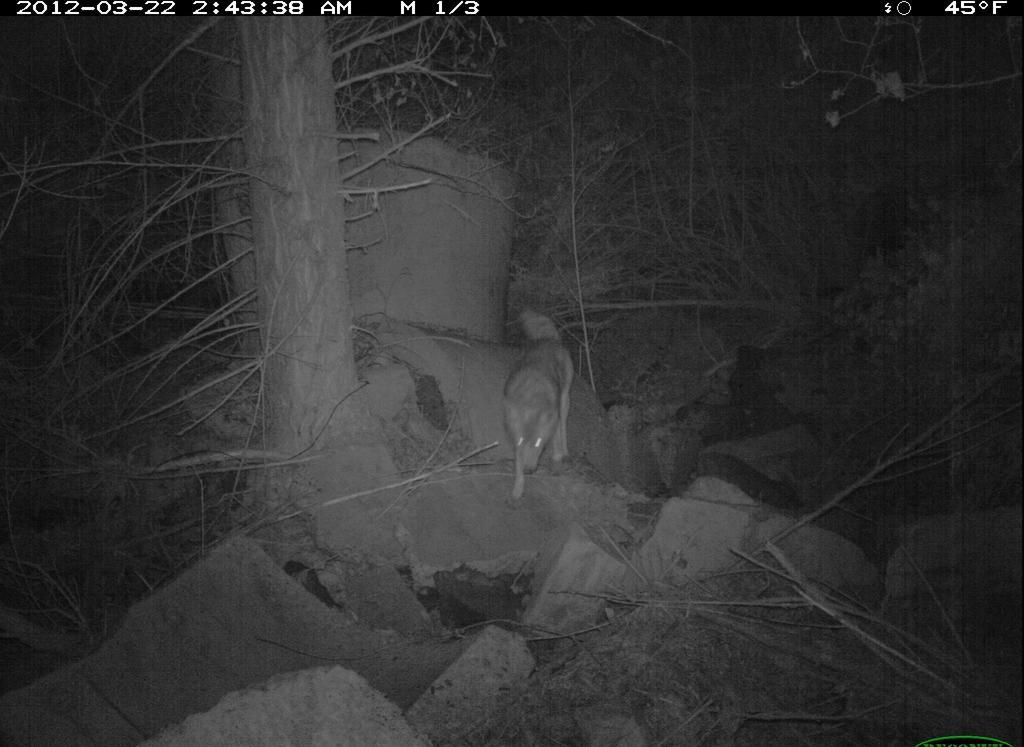coyote: (498, 304, 585, 506)
